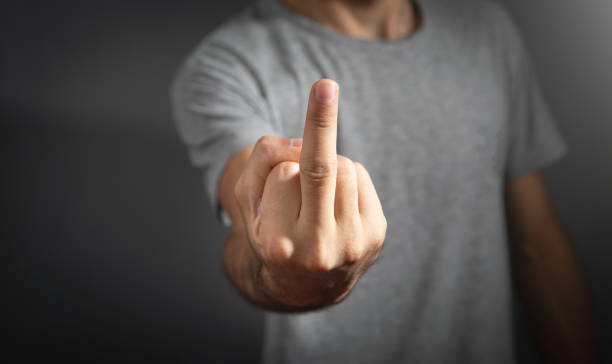insulting_gesture: (226, 75, 387, 314)
